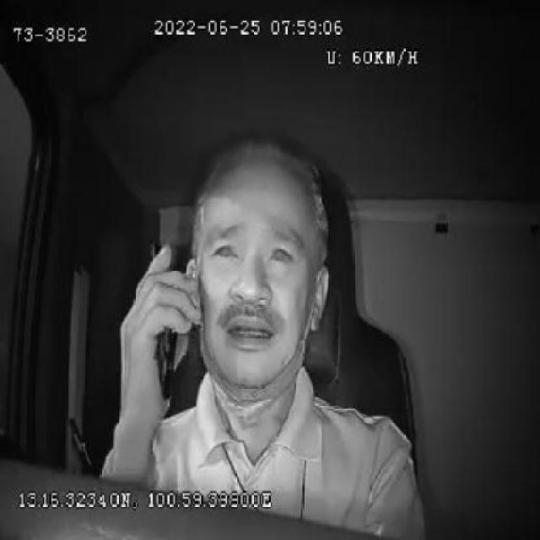phone: (146, 234, 184, 402)
